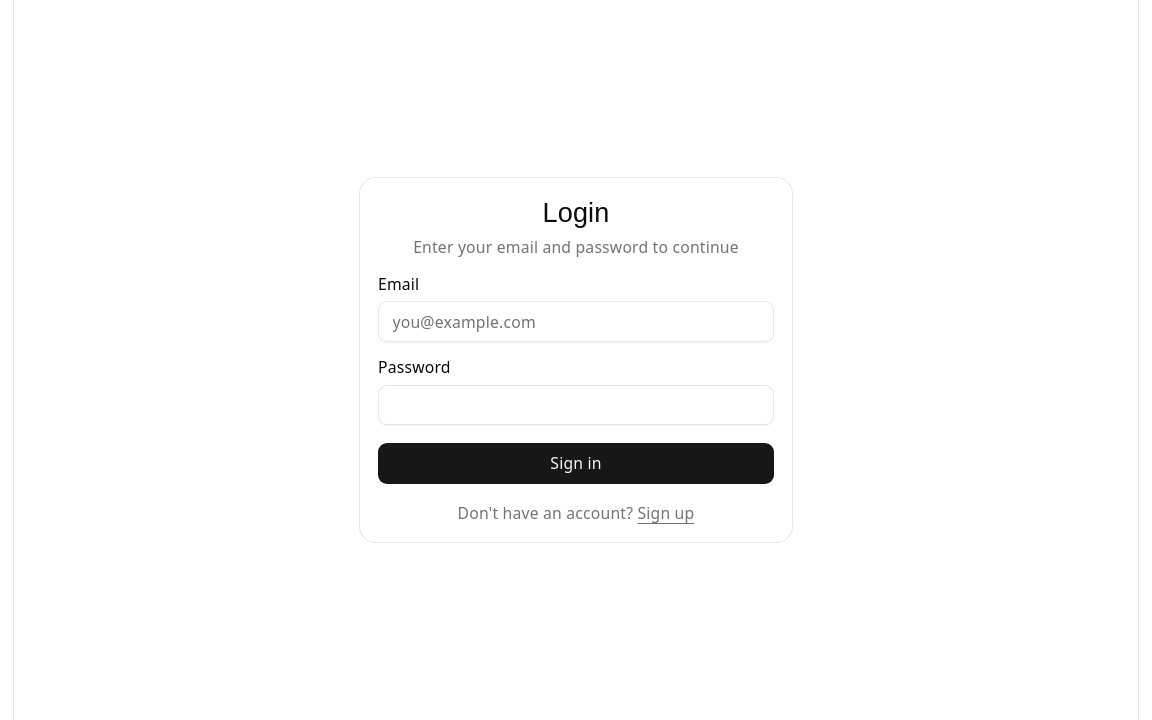
Test: LoginForm › shows an error for unmatched credentials
The image size is (1152, 720).
Type "nobody@example.com" into the field labelled "Email" at (576, 322), box x1=378 y1=302 x2=774 y2=342
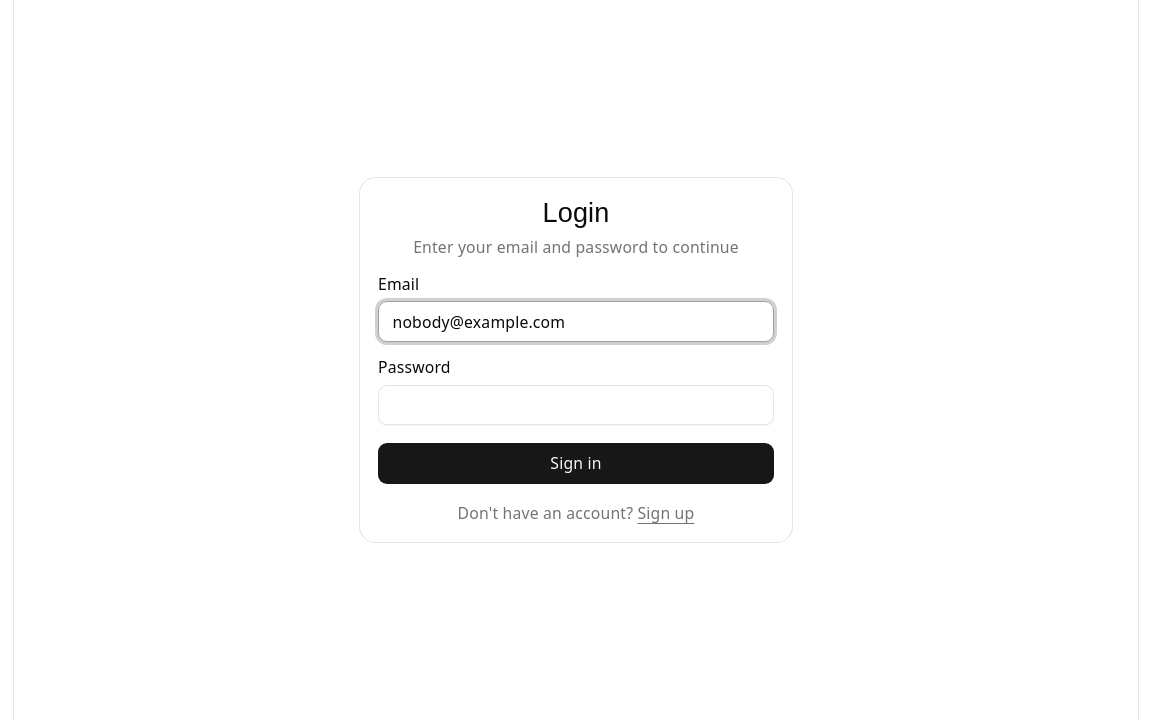
Type "password123" into the password field labelled "Password" at (576, 405), box x1=378 y1=385 x2=774 y2=425
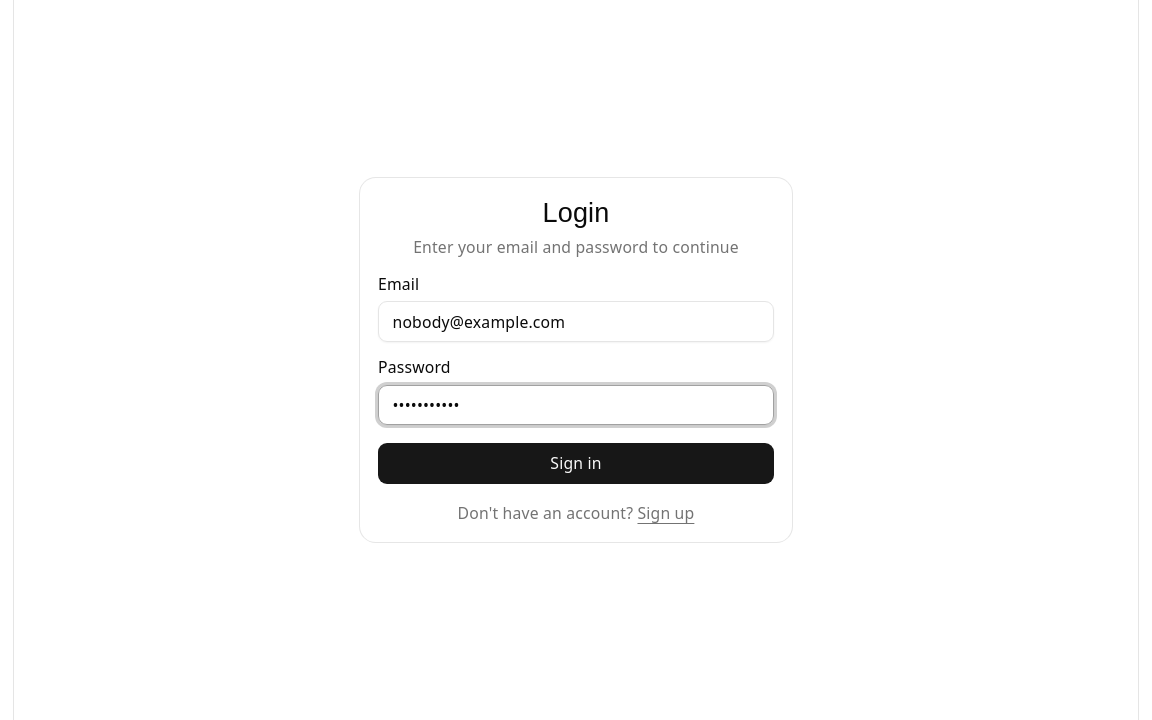
Click the button "Sign in" at (576, 463), box x1=378 y1=443 x2=774 y2=484
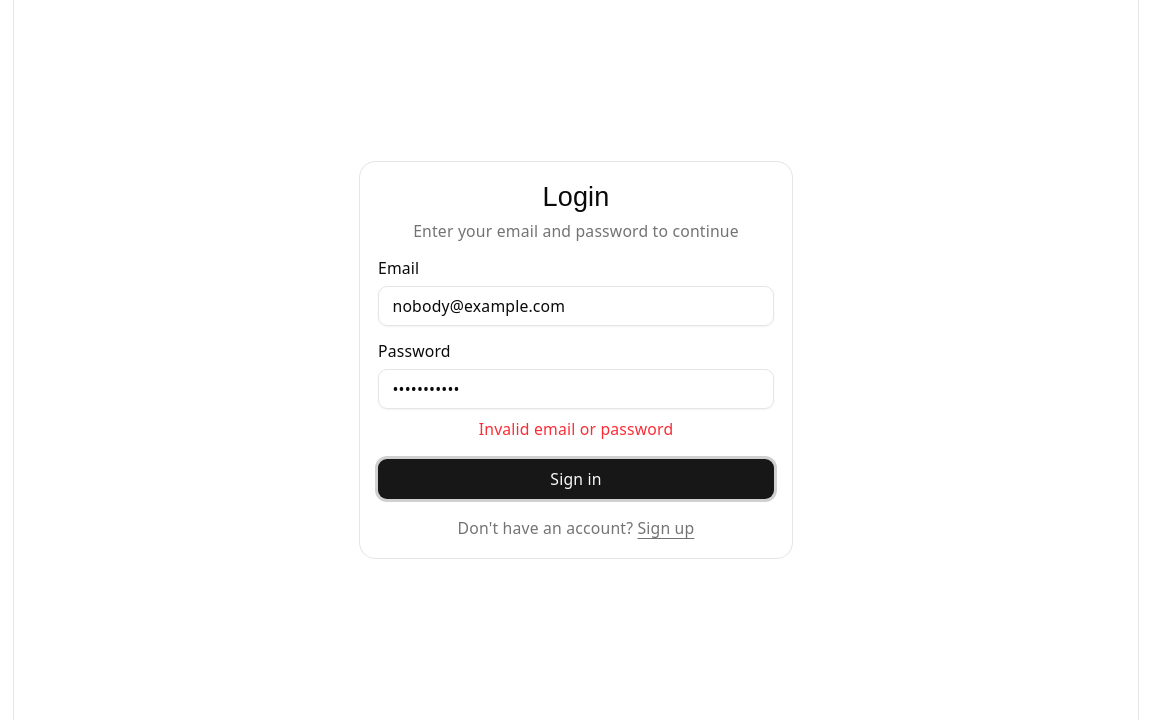
Now the text "Invalid email or password" is shown, box x1=479 y1=418 x2=673 y2=440
